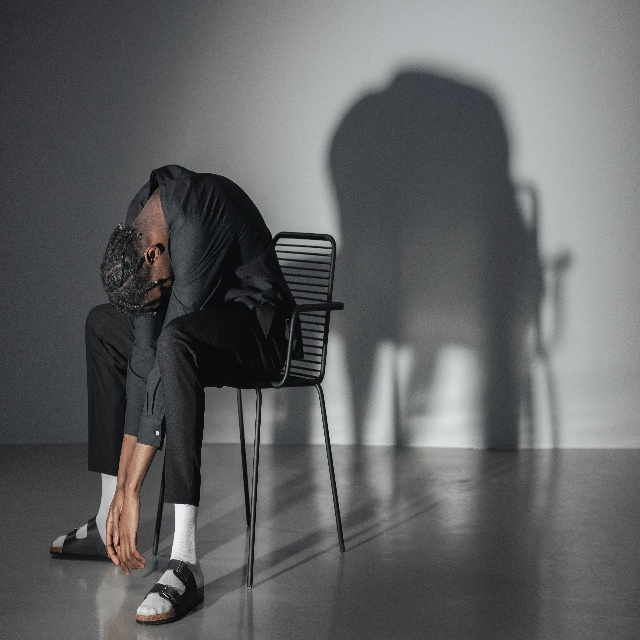Sin_guantes: (118, 489, 145, 575), (105, 490, 123, 565)
